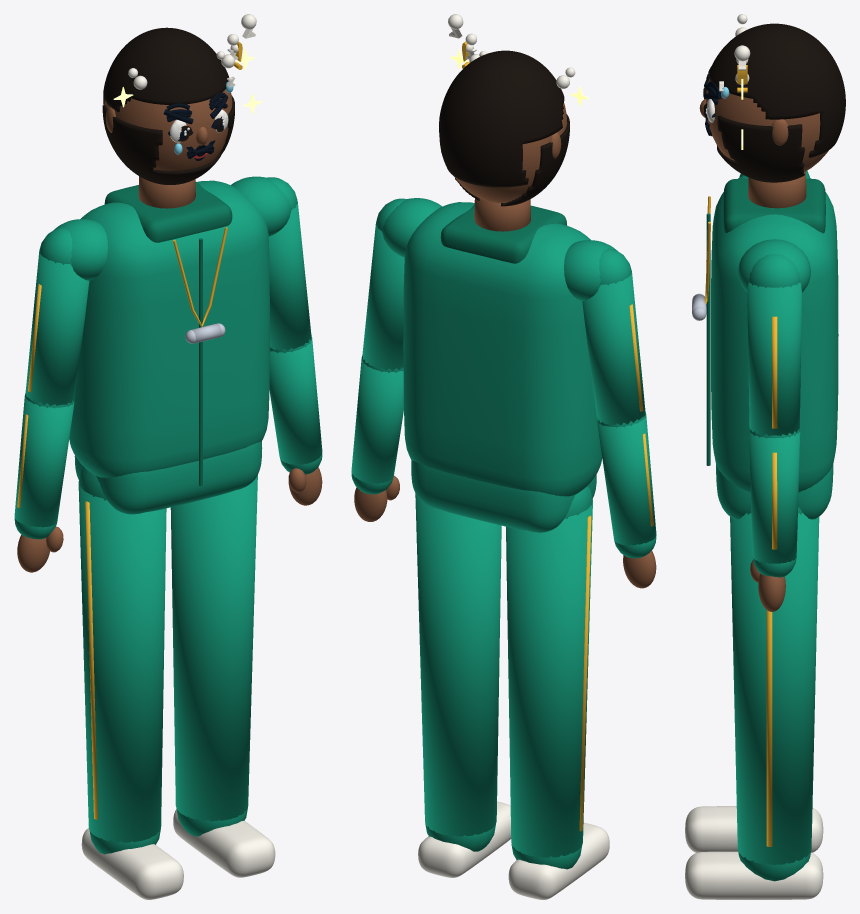
3 views of the same model, side by side, from view 1: azimuth 30°, elevation 25°; view 2: azimuth 150°, elevation 25°; view 3: azimuth 270°, elevation 25° (orthographic). The views are drawn at different scales.
Parts seen in each view (by area): view 1: Torso, Leg 1, Leg -1, Hair, Upper arm L, Hips, Forearm L, Forearm R, Upper arm R, Skull, Shoe -1, Collar (+13 smaller); view 2: Torso, Leg -1, Leg 1, Hair, Upper arm L, Hips, Forearm L, Forearm R, Upper arm R, Collar, Shoe -1, Shoe 1 (+11 smaller); view 3: Leg 1, Torso, Hair, Upper arm R, Forearm R, Shoe 1, Beard, Collar, Shoe -1, Skull, Hips, Leg stripe 1 (+11 smaller).
Boxes of the visible parts, left/top/right/bottom form: Torso: left=69, top=180, right=269, bottom=477; Leg 1: left=170, top=475, right=257, bottom=821; Leg -1: left=78, top=481, right=166, bottom=842; Hair: left=103, top=27, right=228, bottom=111; Upper arm L: left=25, top=251, right=89, bottom=405; Hips: left=74, top=441, right=262, bottom=514; Forearm L: left=14, top=396, right=74, bottom=527; Forearm R: left=269, top=338, right=322, bottom=464; Upper arm R: left=268, top=201, right=311, bottom=350; Skull: left=104, top=89, right=232, bottom=170; Shoe -1: left=81, top=828, right=183, bottom=899; Collar: left=104, top=182, right=232, bottom=242; Torso: left=403, top=202, right=602, bottom=496; Leg -1: left=506, top=500, right=592, bottom=857; Leg 1: left=415, top=493, right=501, bottom=836; Hair: left=439, top=50, right=564, bottom=187; Upper arm L: left=582, top=272, right=645, bottom=424; Hips: left=411, top=460, right=596, bottom=532; Forearm L: left=597, top=415, right=656, bottom=545; Forearm R: left=351, top=357, right=403, bottom=483; Upper arm R: left=362, top=222, right=404, bottom=370; Collar: left=440, top=205, right=566, bottom=263; Shoe -1: left=508, top=822, right=609, bottom=899; Shoe 1: left=418, top=801, right=511, bottom=877; Leg 1: left=730, top=513, right=819, bottom=864; Torso: left=711, top=175, right=838, bottom=492; Hair: left=709, top=23, right=845, bottom=157; Upper arm R: left=747, top=282, right=801, bottom=435; Forearm R: left=749, top=431, right=800, bottom=563; Shoe 1: left=685, top=851, right=823, bottom=899; Beard: left=717, top=115, right=804, bottom=182; Collar: left=723, top=178, right=825, bottom=233; Shoe -1: left=685, top=806, right=823, bottom=852; Skull: left=705, top=78, right=828, bottom=171; Hips: left=716, top=464, right=833, bottom=519; Leg stripe 1: left=766, top=610, right=772, bottom=846.
Size of the model in its own units: 0.6944 by 1.85 by 0.3139.
